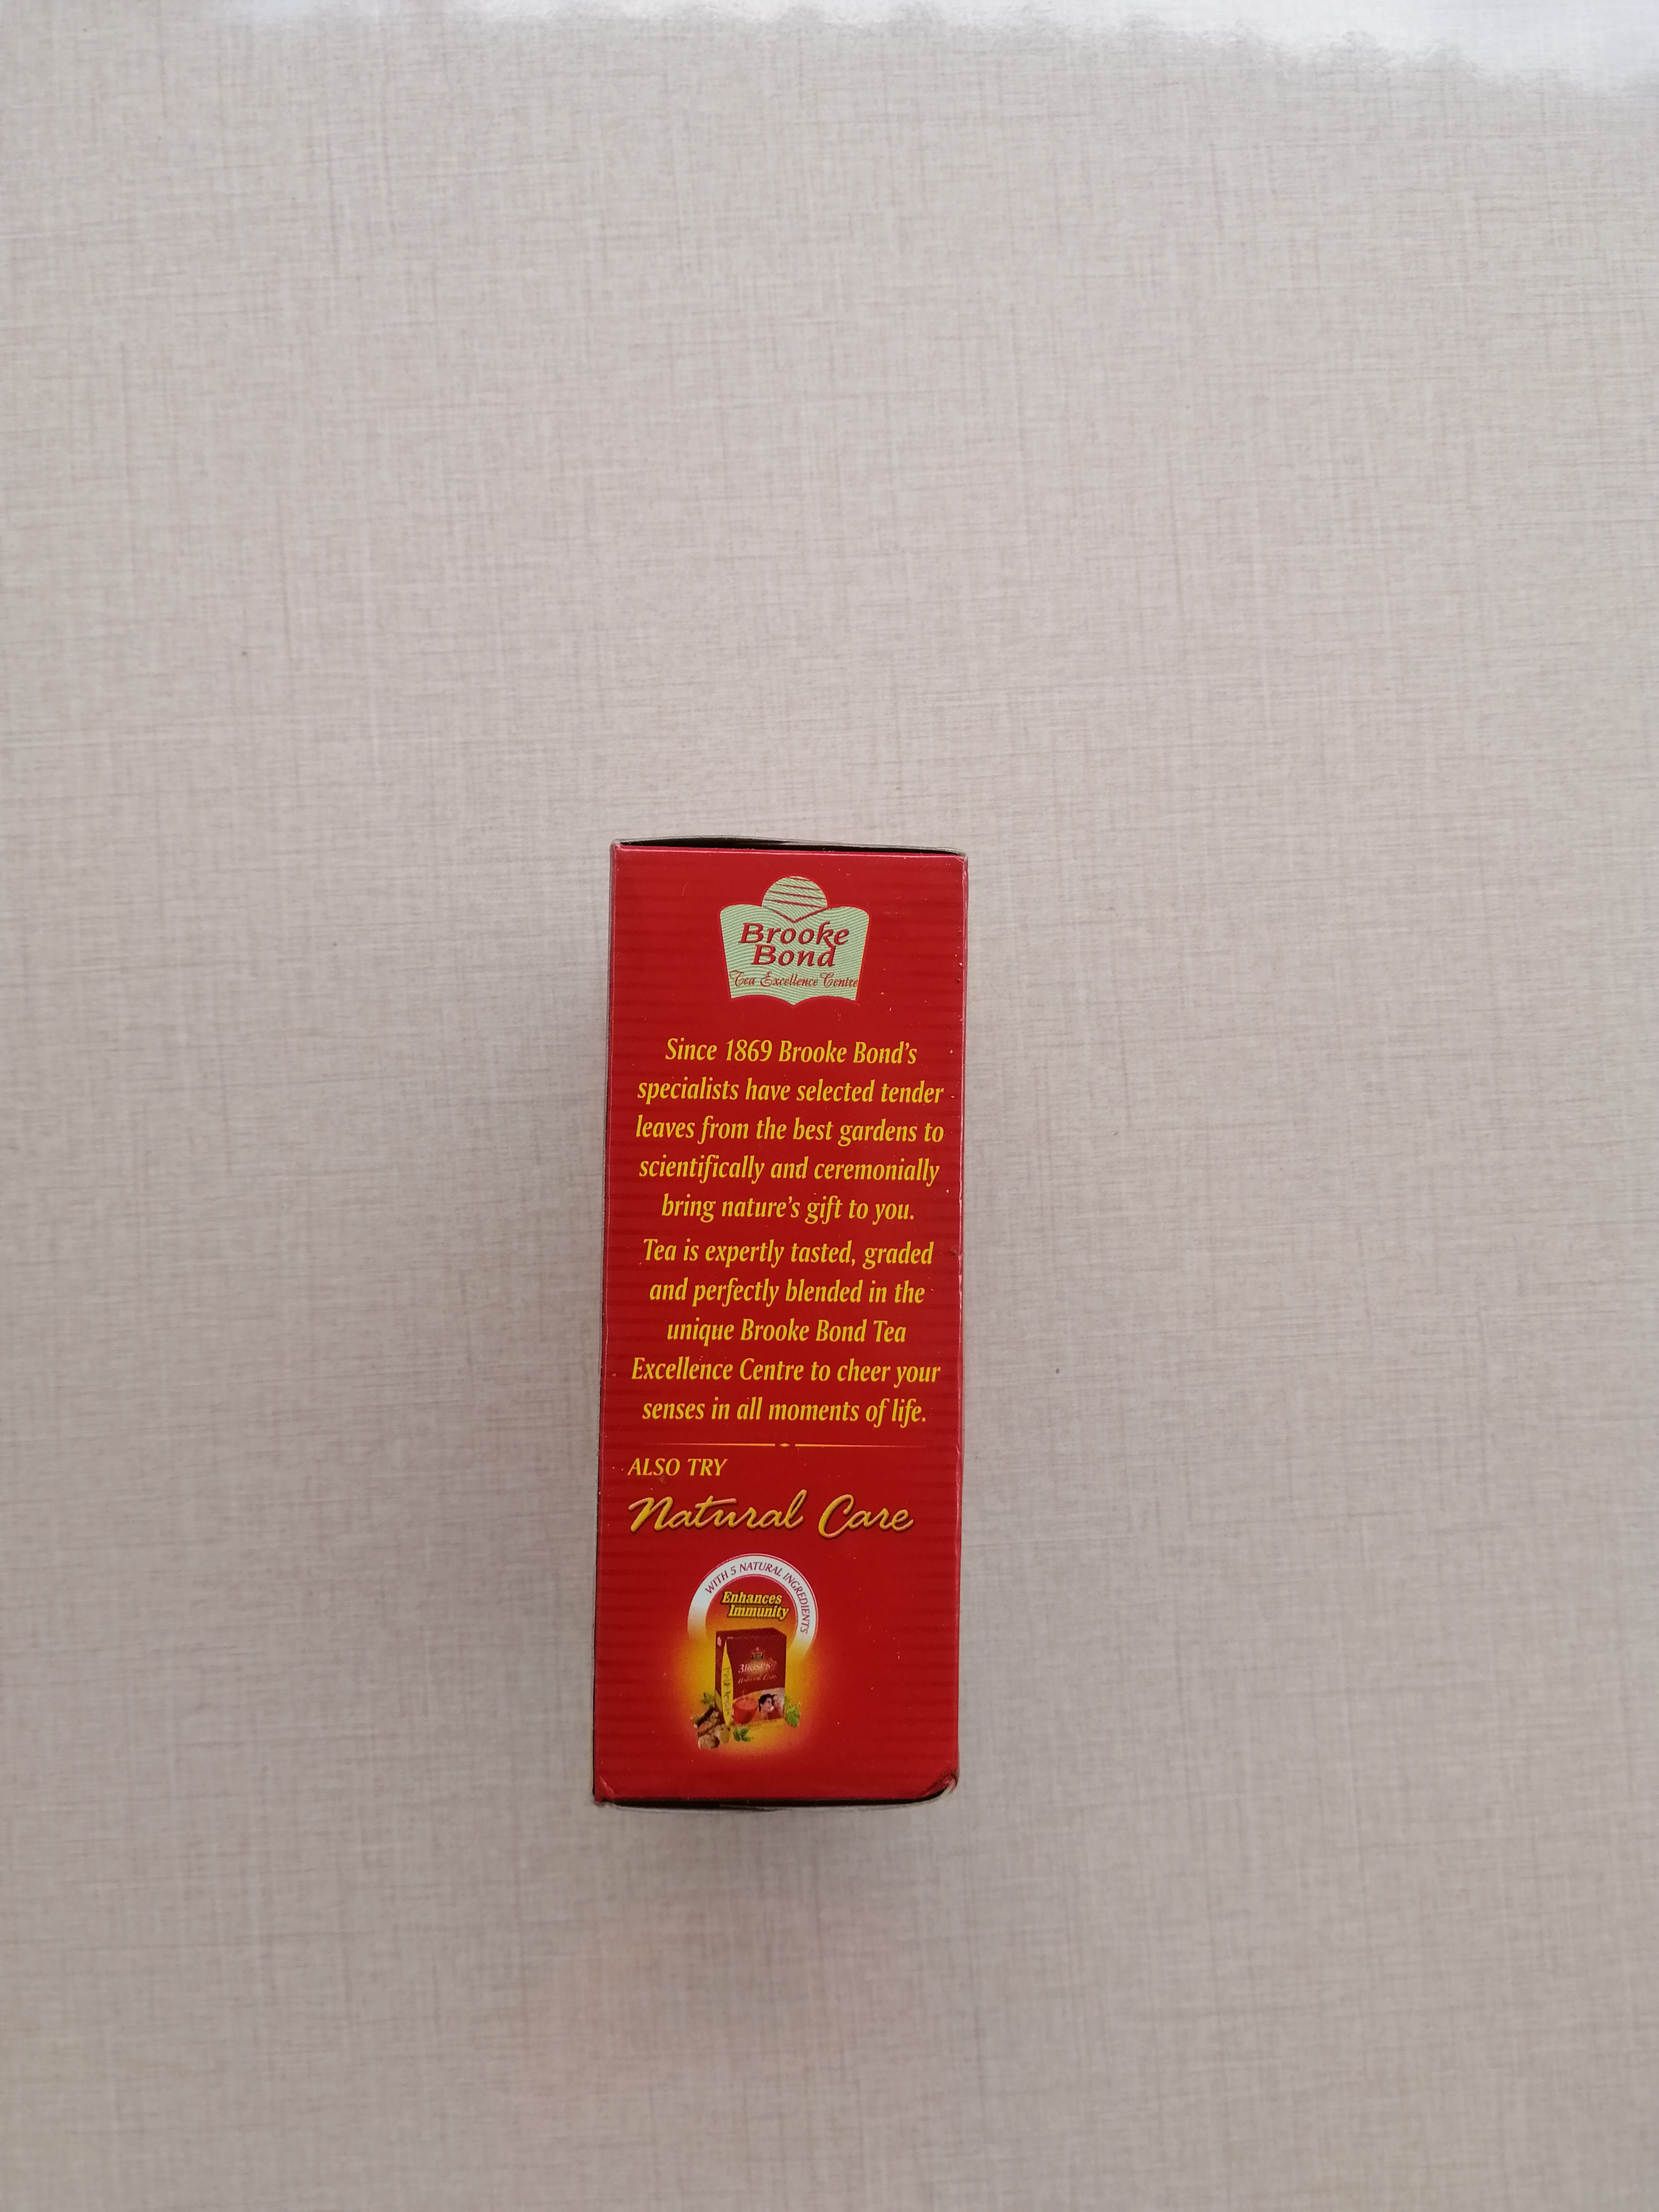3roses_top_star: (596, 833, 969, 1811)
